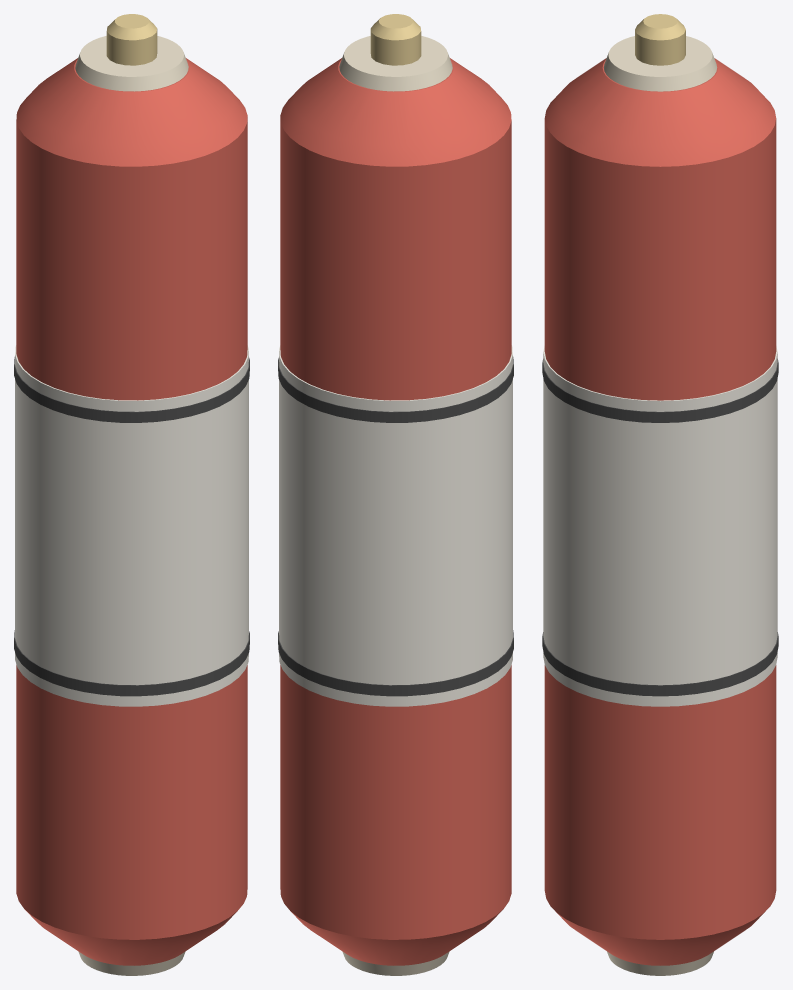
File: dynamite.glb
3 renders of one model, left to right at view 1: azimuth 30°, elevation 25°; view 2: azimuth 150°, elevation 25°; view 3: azimuth 270°, elevation 25°, orthographic.
Visible parts, largest first — view 1: dynamite; view 2: dynamite; view 3: dynamite.
Boxes of the visible parts, x1=… form: dynamite: x1=14, y1=14, x2=249, y2=975; dynamite: x1=278, y1=14, x2=513, y2=975; dynamite: x1=542, y1=14, x2=778, y2=975.
Bounding box in the file's own units: 0.0571 × 0.249 × 0.0571.
